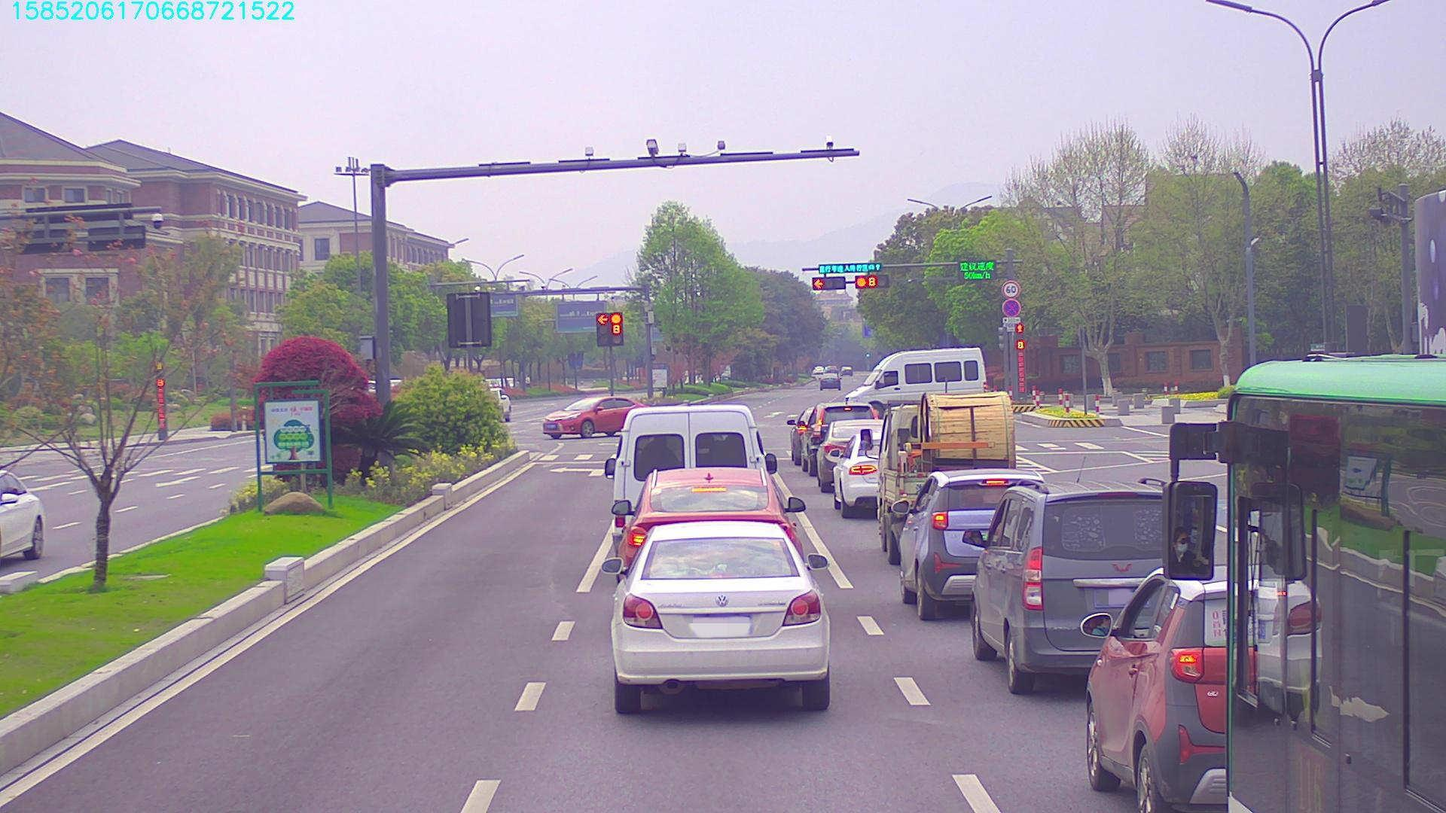red: (813, 276, 848, 291), (851, 276, 886, 284)
wait_on: (816, 261, 881, 273)
